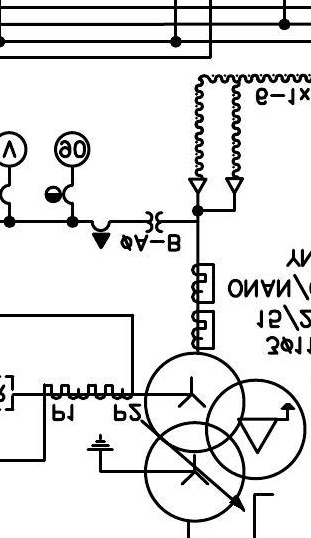11522_tx_ynyn0d1: (143, 350, 308, 524)
terminator_double: (187, 177, 245, 213)
